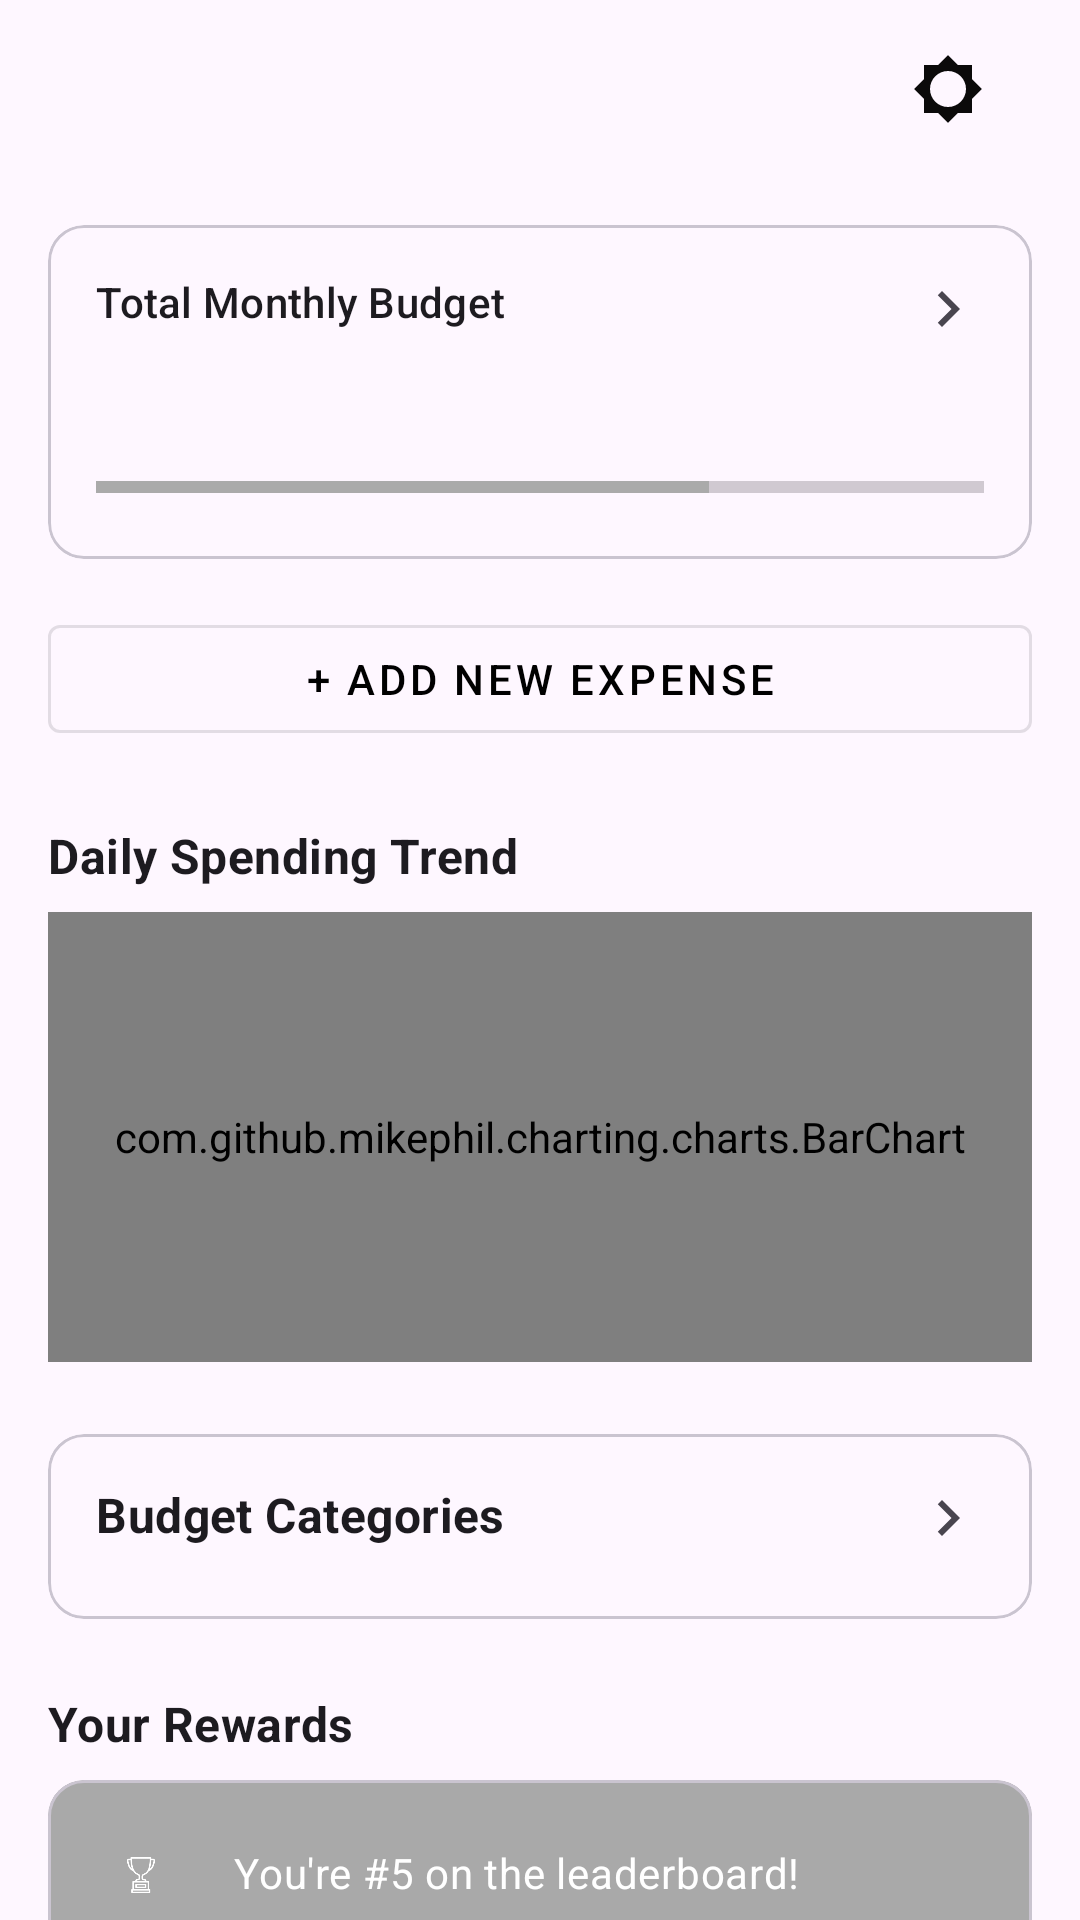

Where icons sit on this 1080 x 1920 app screen, as {"left": x1, "top": y1, "right": x2, "bottom": y2}:
Navigate to budget setup: {"left": 938, "top": 291, "right": 960, "bottom": 327}, {"left": 938, "top": 1500, "right": 960, "bottom": 1536}
Settings: {"left": 914, "top": 55, "right": 982, "bottom": 123}
trophy: {"left": 127, "top": 1857, "right": 155, "bottom": 1893}
